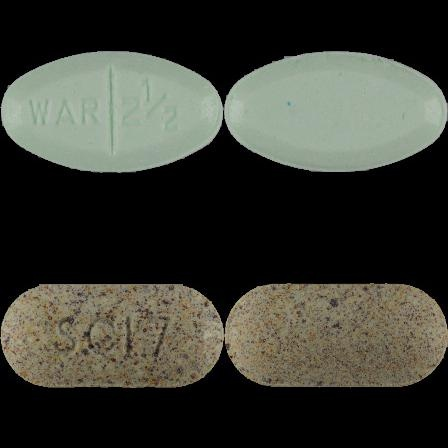52125-906: (0, 0, 224, 224)
